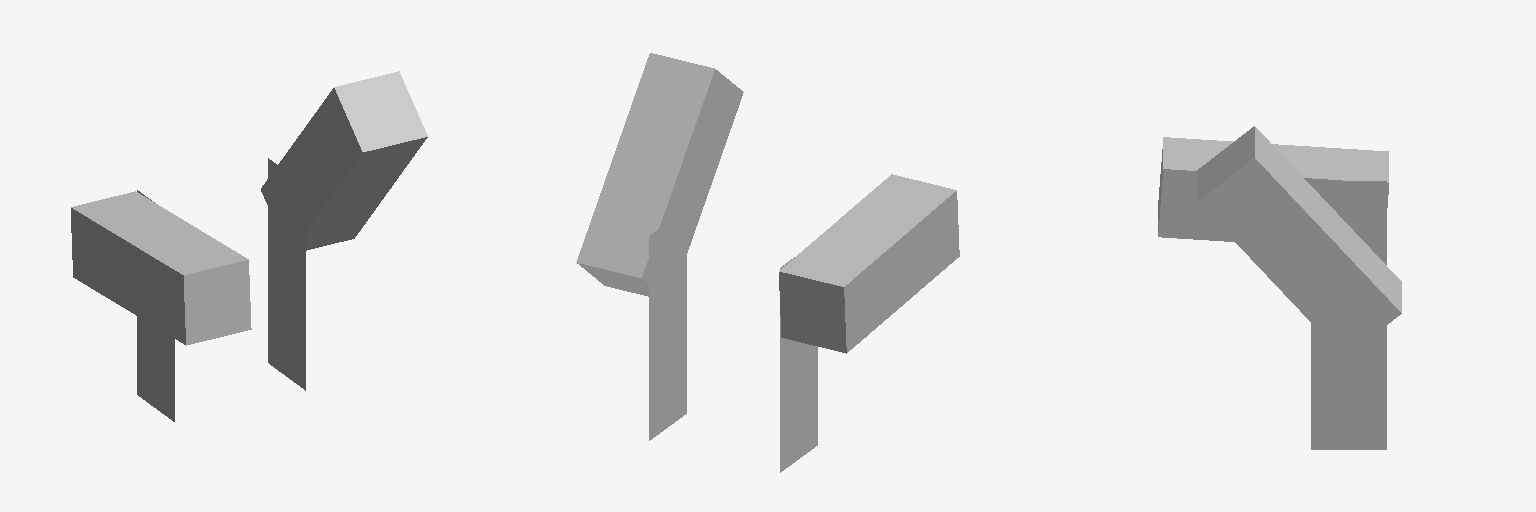
The model's file is arms.obj.
3 views of the same model, side by side, from view 1: azimuth 30°, elevation 25°; view 2: azimuth 150°, elevation 25°; view 3: azimuth 270°, elevation 25° (orthographic).
Parts seen in each view (by area): view 1: Object_Cube; view 2: Object_Cube; view 3: Object_Cube.
Part boxes in pixels (left/top/right/bottom): Object_Cube: left=71, top=71, right=427, bottom=421; Object_Cube: left=576, top=53, right=959, bottom=472; Object_Cube: left=1158, top=126, right=1401, bottom=449.
Size of the model in its own units: 8.4 by 9.95 by 6.78.